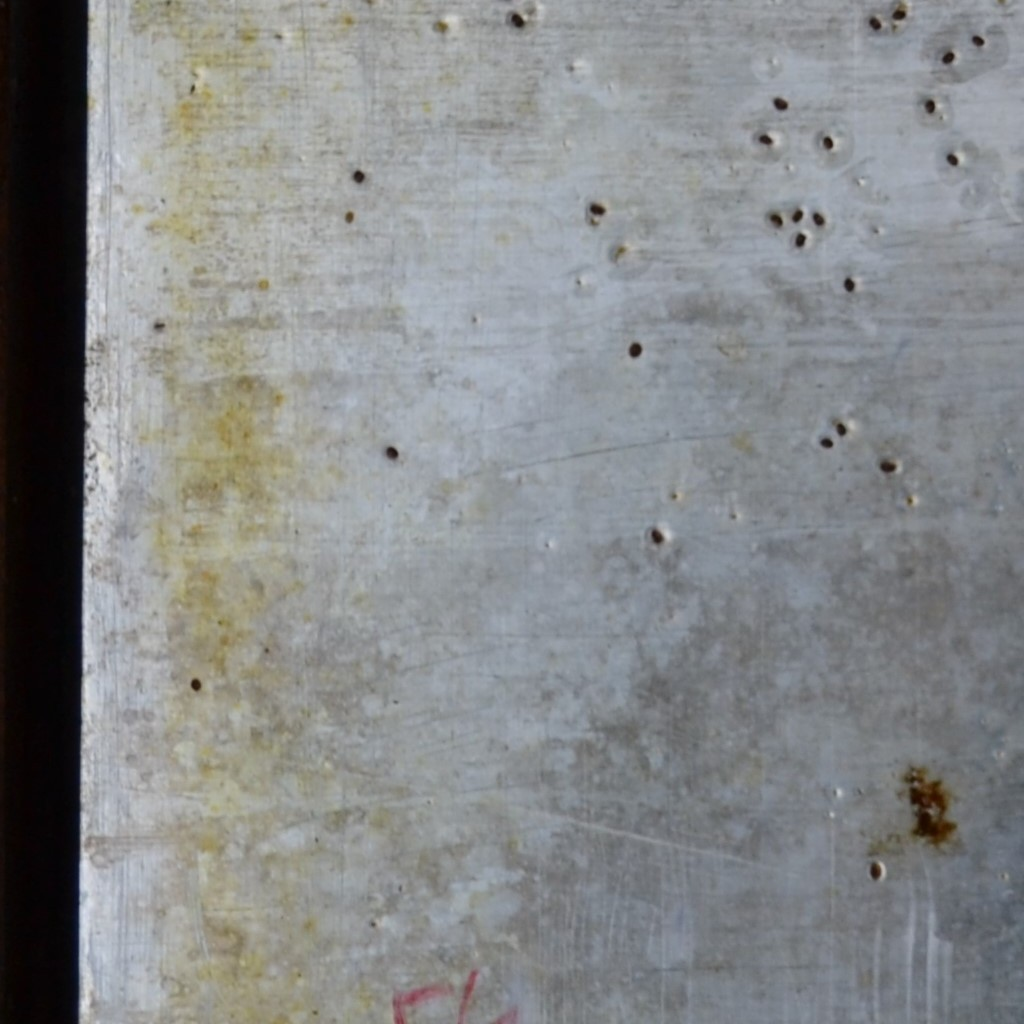varroa: (876, 454, 900, 476), (626, 339, 647, 361), (771, 92, 791, 112), (766, 209, 785, 230), (839, 274, 860, 293), (811, 208, 830, 228), (509, 11, 527, 32), (868, 859, 884, 881), (939, 48, 958, 66), (921, 96, 939, 115), (789, 206, 807, 225), (649, 527, 667, 546), (588, 200, 608, 217), (945, 146, 961, 167), (821, 132, 836, 154), (792, 230, 807, 252), (755, 133, 778, 147), (867, 13, 883, 33), (969, 31, 987, 48), (351, 167, 367, 186), (188, 677, 205, 694), (835, 419, 849, 439), (890, 6, 908, 21), (385, 444, 401, 460), (817, 436, 835, 450)
